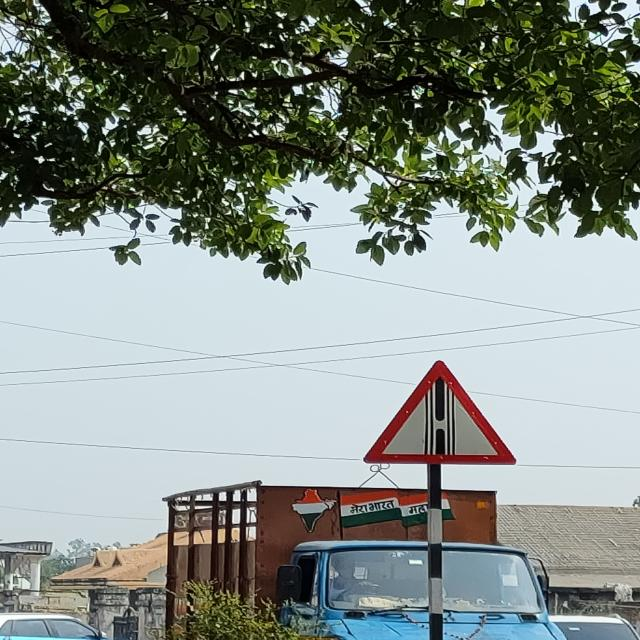ferry: (366, 360, 516, 466)
